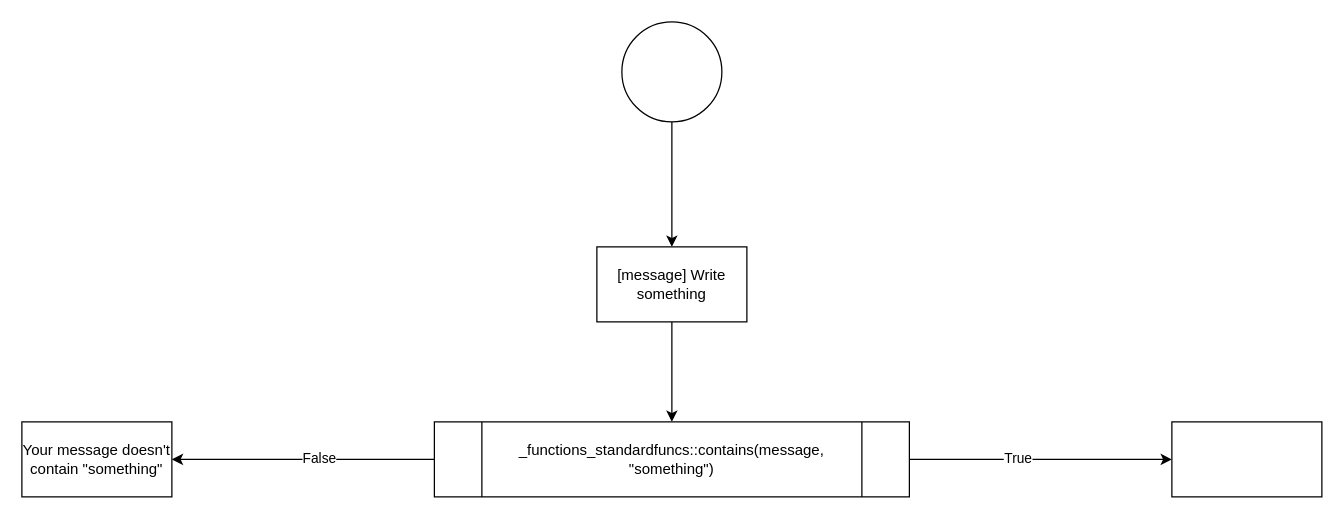
Image size: 1344x519. Some labels were removed from this diagram. Each missing label, with the centre of its shape:
bot_token: point (671, 71)
Your message contains "somehing": point (1246, 459)
